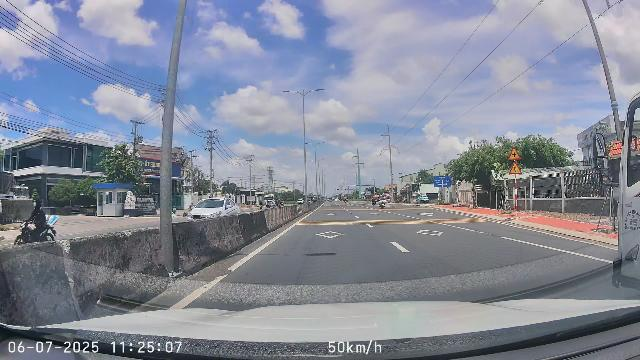209-giao-nhau-co-tin-hieu-den: (509, 162, 522, 175)
